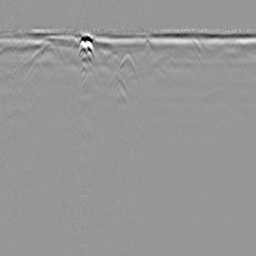cavity: (117, 51, 139, 80)
